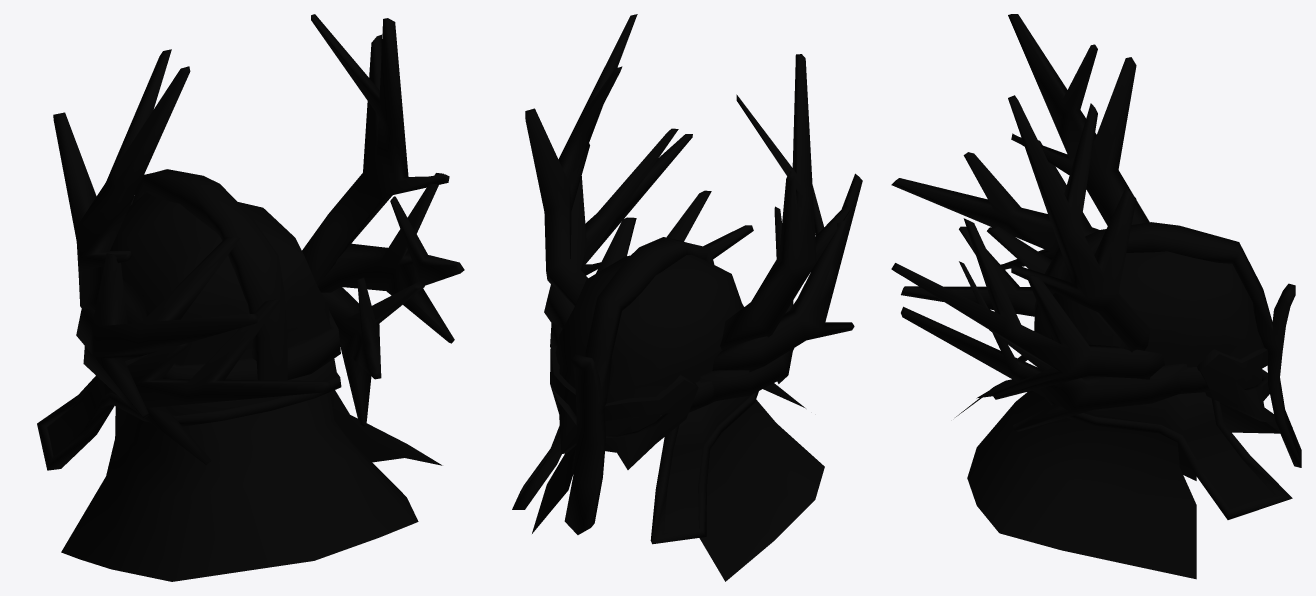
The model's file is HelmetFlametalFixed.fbx.
3 renders of one model, left to right at view 1: azimuth 30°, elevation 25°; view 2: azimuth 150°, elevation 25°; view 3: azimuth 270°, elevation 25°, orthographic. The views are drawn at different scales.
Visible parts, largest first — view 1: HelmetFlametal_2; view 2: HelmetFlametal_2; view 3: HelmetFlametal_2.
Part boxes in pixels (box(x1,y1,x2,y2)): HelmetFlametal_2: box(37, 14, 464, 581); HelmetFlametal_2: box(512, 14, 862, 581); HelmetFlametal_2: box(891, 14, 1301, 579).
Bounding box in the file's own units: 37.68 × 56.6 × 44.31.
1 material, 1 textured.
